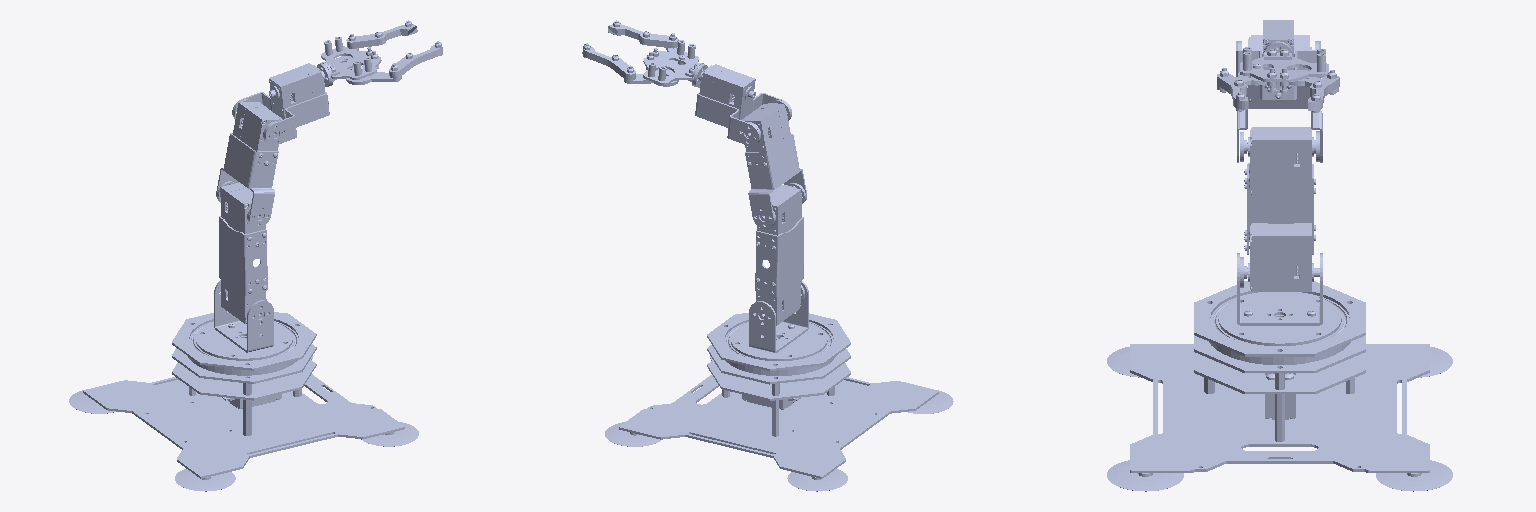
robot.urdf — jibot3:
<?xml version="1.0" encoding="utf-8" ?>
<!-- This URDF was automatically created by SolidWorks to URDF Exporter! Originally created by [author] ([email redacted]) 
     Commit Version: 1.6.0-4-g7f85cfe  Build Version: 1.6.7995.38578
     For more information, please see http://wiki.ros.org/sw_urdf_exporter -->
<robot name="jibot3">
    <link name ="world"/>
    <joint name="world_joint" type="fixed">
        <origin xyz="0 0 0.01" rpy="0 0 0" />
        <parent link="world" />
        <child link="base_link" />
    </joint>
    <link name="base_link">
        <inertial>
            <origin xyz="0.0018187505335656 3.36120860971543E-05 0.0242076964406479" rpy="0 0 0" />
            <mass value="0.159097503800229" />
            <inertia ixx="0.000242702497862633" ixy="1.48409641546002E-10" ixz="6.59390553688888E-09" iyy="0.00024901097549793" iyz="3.27177094856132E-10" izz="0.00048225370265096" />
        </inertial>
        <visual>
            <origin xyz="0 0 0" rpy="0 0 0" />
            <geometry>
                <mesh filename="package://jibot3/meshes/base_link.STL" />
            </geometry>
            <material name="">
                <color rgba="0.792156862745098 0.819607843137255 0.933333333333333 1" />
            </material>
        </visual>
        <collision>
            <origin xyz="0 0 0" rpy="0 0 0" />
            <geometry>
                <mesh filename="package://jibot3/meshes/base_link.STL" />
            </geometry>
        </collision>
    </link>
    <link name="link1">
        <inertial>
            <origin xyz="4.2284E-06 -0.00067008 -0.0016359" rpy="0 0 0" />
            <mass value="0.027494" />
            <inertia ixx="1.2378E-05" ixy="-5.1601E-15" ixz="1.1927E-21" iyy="9.4098E-06" iyz="-6.6562E-21" izz="1.9507E-05" />
        </inertial>
        <visual>
            <origin xyz="0 0 0" rpy="0 0 0" />
            <geometry>
                <mesh filename="package://jibot3/meshes/link1.STL" />
            </geometry>
            <material name="">
                <color rgba="0.79216 0.81961 0.93333 1" />
            </material>
        </visual>
        <collision>
            <origin xyz="0 0 0" rpy="0 0 0" />
            <geometry>
                <mesh filename="package://jibot3/meshes/link1.STL" />
            </geometry>
        </collision>
    </link>
    <joint name="joint1" type="revolute">
        <origin xyz="6.7228E-05 0 0.064" rpy="0 0 0" />
        <parent link="base_link" />
        <child link="link1" />
        <axis xyz="-0.0010504 0 -1" />
        <limit lower="-3.14" upper="3.14" effort="100" velocity="1" />
    </joint>
    <link name="link2">
        <inertial>
            <origin xyz="-0.000973822925902236 0.000363676462313195 0.0446464826258339" rpy="0 0 0" />
            <mass value="0.0701809699122063" />
            <inertia ixx="2.07222626967255E-05" ixy="2.27619912113926E-12" ixz="5.16198262745135E-08" iyy="1.23651260156286E-05" iyz="4.49823552526448E-14" izz="1.30198440275529E-05" />
        </inertial>
        <visual>
            <origin xyz="0 0 0" rpy="0 0 0" />
            <geometry>
                <mesh filename="package://jibot3/meshes/link2.STL" />
            </geometry>
            <material name="">
                <color rgba="0.792156862745098 0.819607843137255 0.933333333333333 1" />
            </material>
        </visual>
        <collision>
            <origin xyz="0 0 0" rpy="0 0 0" />
            <geometry>
                <mesh filename="package://jibot3/meshes/link2.STL" />
            </geometry>
        </collision>
    </link>
    <joint name="joint2" type="revolute">
        <origin xyz="0.0001549 0 0.03211" rpy="0 0 0" />
        <parent link="link1" />
        <child link="link2" />
        <axis xyz="0.0029788 -0.99999 0.0019208" />
        <limit lower="-3.14" upper="3.14" effort="100" velocity="1" />
    </joint>
    <link name="link3">
        <inertial>
            <origin xyz="-0.00047222 0.00018988 0.055258" rpy="0 0 0" />
            <mass value="0.039324" />
            <inertia ixx="1.2773E-05" ixy="-1.2699E-08" ixz="2.3166E-07" iyy="7.2139E-06" iyz="4.3626E-08" izz="8.31E-06" />
        </inertial>
        <visual>
            <origin xyz="0 0 0" rpy="0 0 0" />
            <geometry>
                <mesh filename="package://jibot3/meshes/link3.STL" />
            </geometry>
            <material name="">
                <color rgba="0.79216 0.81961 0.93333 1" />
            </material>
        </visual>
        <collision>
            <origin xyz="0 0 0" rpy="0 0 0" />
            <geometry>
                <mesh filename="package://jibot3/meshes/link3.STL" />
            </geometry>
        </collision>
    </link>
    <joint name="joint3" type="revolute">
        <origin xyz="-0.000907427084811278 0 0.0892998909311206" rpy="0.0142798907320727 0.199900199023151 0.00283576473616103" />
        <parent link="link2" />
        <child link="link3" />
        <axis xyz="0.00531752735563392 0.999922661829751 -0.0112425202747712" />
        <limit lower="-3.14" upper="3.14" effort="100" velocity="1" />
    </joint>
    <link name="link4">
        <inertial>
            <origin xyz="-0.0088076 -1.979E-05 0.036104" rpy="0 0 0" />
            <mass value="0.038508" />
            <inertia ixx="9.0681E-06" ixy="1.1515E-09" ixz="2.922E-08" iyy="1.0847E-05" iyz="3.5793E-10" izz="7.1178E-06" />
        </inertial>
        <visual>
            <origin xyz="0 0 0" rpy="0 0 0" />
            <geometry>
                <mesh filename="package://jibot3/meshes/link4.STL" />
            </geometry>
            <material name="">
                <color rgba="0.79216 0.81961 0.93333 1" />
            </material>
        </visual>
        <collision>
            <origin xyz="0 0 0" rpy="0 0 0" />
            <geometry>
                <mesh filename="package://jibot3/meshes/link4.STL" />
            </geometry>
        </collision>
    </link>
    <joint name="joint4" type="revolute">
        <origin xyz="0 0 0.072906" rpy="-0.041043 1.2512 -0.041474" />
        <parent link="link3" />
        <child link="link4" />
        <axis xyz="0 -0.99999 -0.0034358" />
        <limit lower="-3.14" upper="3.14" effort="100" velocity="1" />
    </joint>
    <link name="link5">
        <inertial>
            <origin xyz="-0.000639896336568108 0.00121194848910335 0.0245764265664954" rpy="0 0 0" />
            <mass value="0.00735665479445383" />
            <inertia ixx="1.26759073778027E-06" ixy="-7.45749771716672E-16" ixz="3.40409485282715E-16" iyy="5.5165210855188E-07" iyz="-7.22885266722634E-14" izz="8.1467569020728E-07" />
        </inertial>
        <visual>
            <origin xyz="0 0 0" rpy="0 0 0" />
            <geometry>
                <mesh filename="package://jibot3/meshes/link5.STL" />
            </geometry>
            <material name="">
                <color rgba="0.792156862745098 0.819607843137255 0.933333333333333 1" />
            </material>
        </visual>
        <collision>
            <origin xyz="0 0 0" rpy="0 0 0" />
            <geometry>
                <mesh filename="package://jibot3/meshes/link5.STL" />
            </geometry>
        </collision>
    </link>
    <joint name="joint5" type="revolute">
        <origin xyz="-0.020947 -0.00013895 0.061179" rpy="0 0 -0.01996" />
        <parent link="link4" />
        <child link="link5" />
        <axis xyz="0 0 -1" />
        <limit lower="-3.14" upper="3.14" effort="100" velocity="1" />
    </joint>
    <link name="link6_1">
        <inertial>
            <origin xyz="0.0068461 -0.0060882 0.00037705" rpy="0 0 0" />
            <mass value="0.00218" />
            <inertia ixx="2.0757E-07" ixy="1.221E-07" ixz="1.8435E-08" iyy="1.8558E-07" iyz="-1.0888E-08" izz="3.7886E-07" />
        </inertial>
        <visual>
            <origin xyz="0 0 0" rpy="0 0 0" />
            <geometry>
                <mesh filename="package://jibot3/meshes/link6_1.STL" />
            </geometry>
            <material name="">
                <color rgba="0.79216 0.81961 0.93333 1" />
            </material>
        </visual>
        <collision>
            <origin xyz="0 0 0" rpy="0 0 0" />
            <geometry>
                <mesh filename="package://jibot3/meshes/link6_1.STL" />
            </geometry>
        </collision>
    </link>
    <joint name="joint6_1" type="revolute">
        <origin xyz="0.004 0.013725 0.029515" rpy="-3.1416 -1.4514 0.019089" />
        <parent link="link5" />
        <child link="link6_1" />
        <axis xyz="-0.11906 -0.019088 -0.9927" />
        <limit lower="-3.14" upper="3.14" effort="100" velocity="1" />
    </joint>
    <link name="link7_1">
        <inertial>
            <origin xyz="0.0230770307506878 0.0035591840287565 0.00315287503519782" rpy="0 0 0" />
            <mass value="0.0029527905178879" />
            <inertia ixx="7.82407226199894E-08" ixy="-1.67583252334009E-07" ixz="4.01728848553185E-17" iyy="7.05476569519731E-07" iyz="2.1346757122142E-16" izz="7.6403656595074E-07" />
        </inertial>
        <visual>
            <origin xyz="0 0 0" rpy="0 0 0" />
            <geometry>
                <mesh filename="package://jibot3/meshes/link7_1.STL" />
            </geometry>
            <material name="">
                <color rgba="0.792156862745098 0.819607843137255 0.933333333333333 1" />
            </material>
        </visual>
        <collision>
            <origin xyz="0 0 0" rpy="0 0 0" />
            <geometry>
                <mesh filename="package://jibot3/meshes/link7_1.STL" />
            </geometry>
        </collision>
    </link>
    <joint name="joint7_1" type="revolute">
        <origin xyz="0.021184 -0.021187 -0.0021332" rpy="-3.1067 0.11574 0.45284" />
        <parent link="link6_1" />
        <child link="link7_1" />
        <axis xyz="0 0 -1" />
        <limit lower="-3.14" upper="3.14" effort="100" velocity="1" />
    </joint>
    <link name="link6_2">
        <inertial>
            <origin xyz="0.00647030714889267 0.00581952170150188 0.000217281850265649" rpy="0 0 0" />
            <mass value="0.00230959501633935" />
            <inertia ixx="2.11956696320674E-07" ixy="-1.24112138593459E-07" ixz="2.34958449174616E-08" iyy="1.89668888200061E-07" iyz="1.8697936550651E-08" izz="3.84790568959189E-07" />
        </inertial>
        <visual>
            <origin xyz="0 0 0" rpy="0 0 0" />
            <geometry>
                <mesh filename="package://jibot3/meshes/link6_2.STL" />
            </geometry>
            <material name="">
                <color rgba="0.792156862745098 0.819607843137255 0.933333333333333 1" />
            </material>
        </visual>
        <collision>
            <origin xyz="0 0 0" rpy="0 0 0" />
            <geometry>
                <mesh filename="package://jibot3/meshes/link6_2.STL" />
            </geometry>
        </collision>
    </link>
    <joint name="joint6_2" type="revolute">
        <origin xyz="0.004 -0.013694 0.029489" rpy="-3.1416 -1.4514 0.019089" />
        <parent link="link5" />
        <child link="link6_2" />
        <axis xyz="0.11906 0.019088 0.9927" />
        <limit lower="-3.14" upper="3.14" effort="100" velocity="1" />
    </joint>
    <link name="link7_2">
        <inertial>
            <origin xyz="0.023072 -0.0036182 0.0031529" rpy="0 0 0" />
            <mass value="0.0029528" />
            <inertia ixx="7.8241E-08" ixy="1.6758E-07" ixz="1.9212E-16" iyy="7.0548E-07" iyz="1.0135E-16" izz="7.6404E-07" />
        </inertial>
        <visual>
            <origin xyz="0 0 0" rpy="0 0 0" />
            <geometry>
                <mesh filename="package://jibot3/meshes/link7_2.STL" />
            </geometry>
            <material name="">
                <color rgba="0.79216 0.81961 0.93333 1" />
            </material>
        </visual>
        <collision>
            <origin xyz="0 0 0" rpy="0 0 0" />
            <geometry>
                <mesh filename="package://jibot3/meshes/link7_2.STL" />
            </geometry>
        </collision>
    </link>
    <joint name="joint7_2" type="revolute">
        <origin xyz="0.021092 0.021163 -0.0029365" rpy="3.0724 0.099166 -0.45197" />
        <parent link="link6_2" />
        <child link="link7_2" />
        <axis xyz="0 0 -1" />
        <limit lower="-3.14" upper="3.14" effort="100" velocity="1" />
    </joint>
    <transmission name="trans_joint1">
        <type>transmission_interface/SimpleTransmission</type>
        <joint name="joint1">
            <hardwareInterface>hardware_interface/PositionJointInterface</hardwareInterface>
        </joint>
        <actuator name="joint1_motor">
            <hardwareInterface>hardware_interface/PositionJointInterface</hardwareInterface>
            <mechanicalReduction>1</mechanicalReduction>
        </actuator>
    </transmission>
    <transmission name="trans_joint2">
        <type>transmission_interface/SimpleTransmission</type>
        <joint name="joint2">
            <hardwareInterface>hardware_interface/PositionJointInterface</hardwareInterface>
        </joint>
        <actuator name="joint2_motor">
            <hardwareInterface>hardware_interface/PositionJointInterface</hardwareInterface>
            <mechanicalReduction>1</mechanicalReduction>
        </actuator>
    </transmission>
    <transmission name="trans_joint3">
        <type>transmission_interface/SimpleTransmission</type>
        <joint name="joint3">
            <hardwareInterface>hardware_interface/PositionJointInterface</hardwareInterface>
        </joint>
        <actuator name="joint3_motor">
            <hardwareInterface>hardware_interface/PositionJointInterface</hardwareInterface>
            <mechanicalReduction>1</mechanicalReduction>
        </actuator>
    </transmission>
    <transmission name="trans_joint4">
        <type>transmission_interface/SimpleTransmission</type>
        <joint name="joint4">
            <hardwareInterface>hardware_interface/PositionJointInterface</hardwareInterface>
        </joint>
        <actuator name="joint4_motor">
            <hardwareInterface>hardware_interface/PositionJointInterface</hardwareInterface>
            <mechanicalReduction>1</mechanicalReduction>
        </actuator>
    </transmission>
    <transmission name="trans_joint5">
        <type>transmission_interface/SimpleTransmission</type>
        <joint name="joint5">
            <hardwareInterface>hardware_interface/PositionJointInterface</hardwareInterface>
        </joint>
        <actuator name="joint5_motor">
            <hardwareInterface>hardware_interface/PositionJointInterface</hardwareInterface>
            <mechanicalReduction>1</mechanicalReduction>
        </actuator>
    </transmission>
    <transmission name="trans_joint6_1">
        <type>transmission_interface/SimpleTransmission</type>
        <joint name="joint6_1">
            <hardwareInterface>hardware_interface/PositionJointInterface</hardwareInterface>
        </joint>
        <actuator name="joint6_1_motor">
            <hardwareInterface>hardware_interface/PositionJointInterface</hardwareInterface>
            <mechanicalReduction>1</mechanicalReduction>
        </actuator>
    </transmission>
    <transmission name="trans_joint7_1">
        <type>transmission_interface/SimpleTransmission</type>
        <joint name="joint7_1">
            <hardwareInterface>hardware_interface/PositionJointInterface</hardwareInterface>
        </joint>
        <actuator name="joint7_1_motor">
            <hardwareInterface>hardware_interface/PositionJointInterface</hardwareInterface>
            <mechanicalReduction>1</mechanicalReduction>
        </actuator>
    </transmission>
    <transmission name="trans_joint6_2">
        <type>transmission_interface/SimpleTransmission</type>
        <joint name="joint6_2">
            <hardwareInterface>hardware_interface/PositionJointInterface</hardwareInterface>
        </joint>
        <actuator name="joint6_2_motor">
            <hardwareInterface>hardware_interface/PositionJointInterface</hardwareInterface>
            <mechanicalReduction>1</mechanicalReduction>
        </actuator>
    </transmission>
    <transmission name="trans_joint7_2">
        <type>transmission_interface/SimpleTransmission</type>
        <joint name="joint7_2">
            <hardwareInterface>hardware_interface/PositionJointInterface</hardwareInterface>
        </joint>
        <actuator name="joint7_2_motor">
            <hardwareInterface>hardware_interface/PositionJointInterface</hardwareInterface>
            <mechanicalReduction>1</mechanicalReduction>
        </actuator>
    </transmission>
    <gazebo>
        <plugin name="gazebo_ros_control" filename="libgazebo_ros_control.so">
            <robotNamespace>/</robotNamespace>
        </plugin>
    </gazebo>
    <gazebo reference="base_link">
        <material>Gazebo/Orange</material>
    </gazebo>
    <gazebo reference="link1">
        <material>Gazebo/Orange</material>
    </gazebo>
    <gazebo reference="link2">
        <material>Gazebo/Orange</material>
    </gazebo>
    <gazebo reference="link3">
        <material>Gazebo/Orange</material>
    </gazebo>
    <gazebo reference="link4">
        <material>Gazebo/Orange</material>
    </gazebo>
    <gazebo reference="link5">
        <material>Gazebo/Orange</material>
    </gazebo>
    <gazebo reference="link6_1">
        <material>Gazebo/Orange</material>
    </gazebo>
    <gazebo reference="link7_1">
        <material>Gazebo/Orange</material>
    </gazebo>
    <gazebo reference="link6_2">
        <material>Gazebo/Orange</material>
    </gazebo>
    <gazebo reference="link7_2">
        <material>Gazebo/Orange</material>
    </gazebo>
</robot>

--- Render facts (derived) ---
The picture shows the robot from 3 angles, left to right: view 1: azimuth 30°, elevation 25°; view 2: azimuth 150°, elevation 25°; view 3: azimuth 270°, elevation 25°; orthographic projection.
Robot: jibot3 — 11 links, 10 joints (9 revolute, 1 fixed); root link world; default pose: every joint at zero.
Visible links, largest first — view 1: base_link, link2, link3, link1, link4, link5, link7_1, link7_2; view 2: base_link, link2, link3, link1, link4, link5, link7_2, link7_1; view 3: base_link, link2, link1, link5, link3, link4, link7_2, link7_1.
Boxes of the visible links, x1,y1,x2,y2 form: base_link: (69,311,418,491); link2: (219,182,267,323); link3: (216,102,282,227); link1: (196,280,292,360); link4: (232,63,329,145); link5: (317,37,381,86); link7_1: (346,20,417,48); link7_2: (389,41,442,78); base_link: (605,312,953,491); link2: (755,185,803,325); link3: (742,103,806,228); link1: (731,281,827,360); link4: (695,64,791,145); link5: (643,40,707,87); link7_2: (608,20,678,48); link7_1: (582,43,635,80); base_link: (1107,281,1452,491); link2: (1244,127,1319,291); link1: (1218,253,1341,345); link5: (1240,41,1328,92); link3: (1237,35,1322,162); link4: (1236,20,1320,99); link7_2: (1217,74,1247,111); link7_1: (1308,76,1339,112).
Size in the robot's own frame: 0.2873 by 0.224 by 0.3113 metres.
Meshes: 10 distinct files referenced, 10 mesh visuals loaded (10 binary STL).